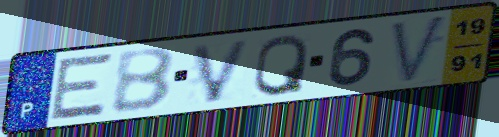6: (328, 26, 380, 89)
B: (110, 45, 178, 115)
E: (47, 51, 117, 123)
Q: (250, 31, 311, 98)
V: (388, 12, 451, 87), (190, 36, 255, 106)
